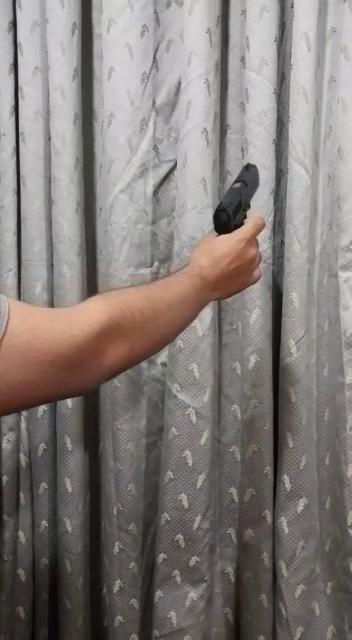weapon: (209, 157, 265, 247)
